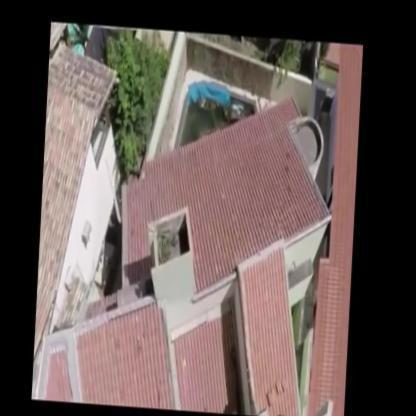agua: (189, 95, 237, 122)
